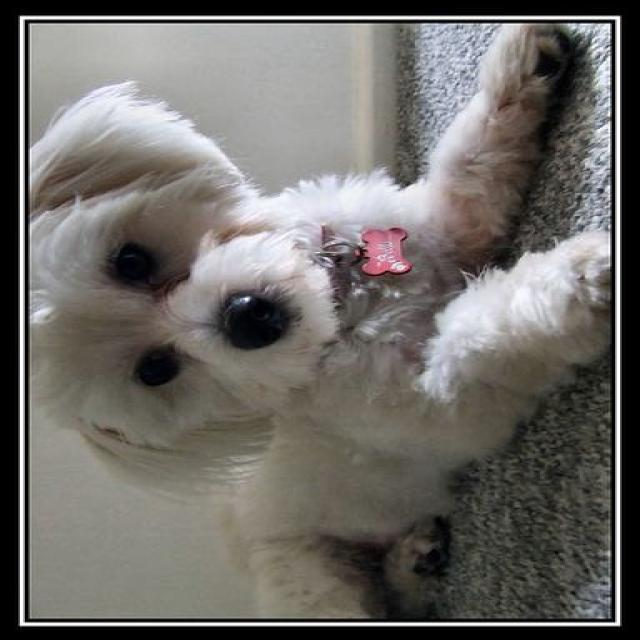maltese_dog: (23, 19, 617, 625)
